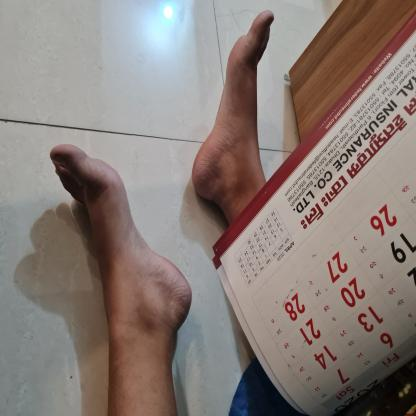leg: (44, 135, 202, 416), (184, 3, 279, 224)
